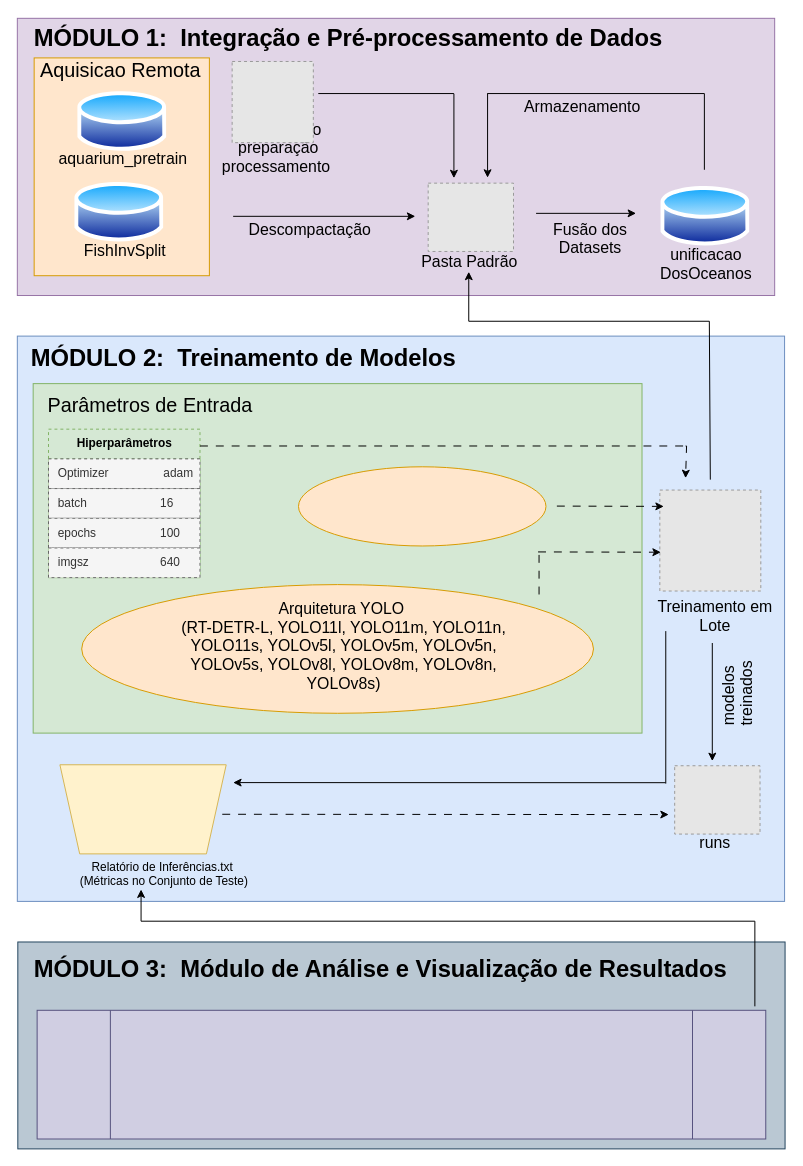
This 803x1166 diagram has some shape labels left out. Grey dashed boxes stand in for pictures. The centre of each missing label's shape, as x and y in pixels:
Arquitetura RT-DETR (RT-DETR-L): the point at 421,506
Coleta de Métricas: the point at 142,809
Painel Consolidado dos Resultados: the point at 401,1074
